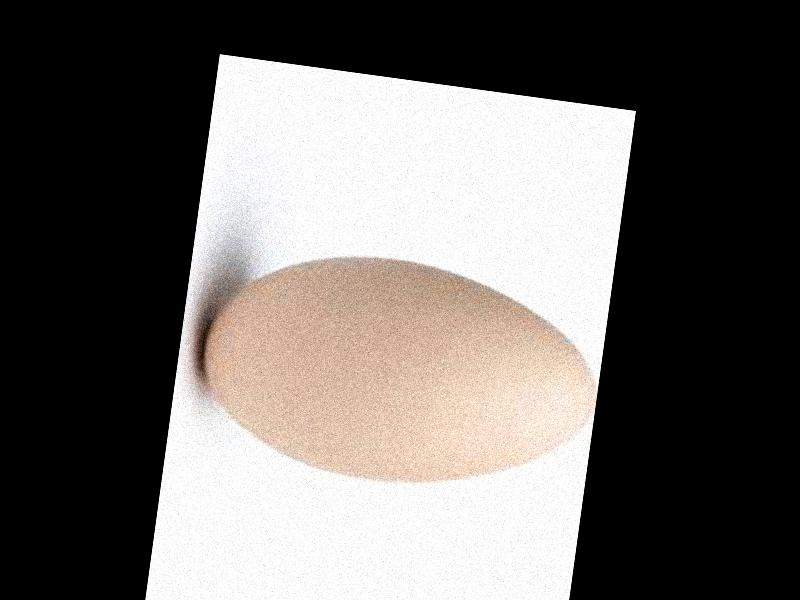Eggs: (187, 235, 608, 506)
